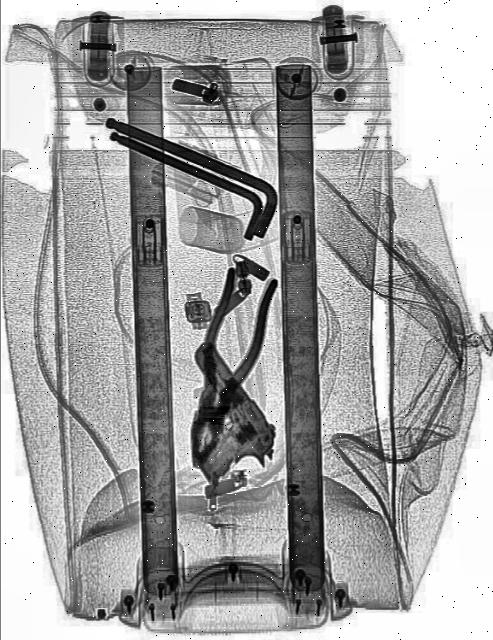Gun: (150, 337, 288, 507)
Pliers: (170, 258, 282, 480)
